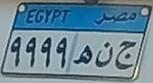9: (54, 35, 68, 68), (39, 36, 52, 70), (24, 37, 37, 69), (11, 37, 22, 65)
haa: (72, 42, 92, 68)
jeem: (115, 37, 136, 71)
noon: (94, 41, 113, 69)
